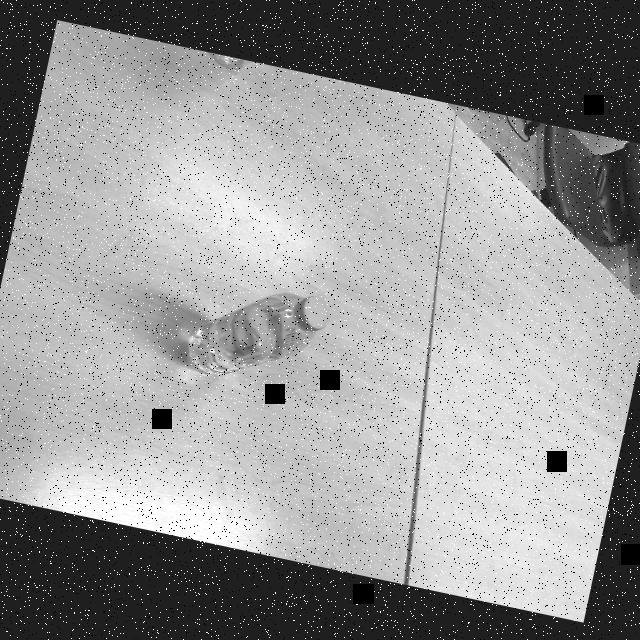plastic_bottle: (180, 270, 336, 398), (208, 52, 252, 72)
plastic_bottle_cap: (296, 292, 334, 332)
